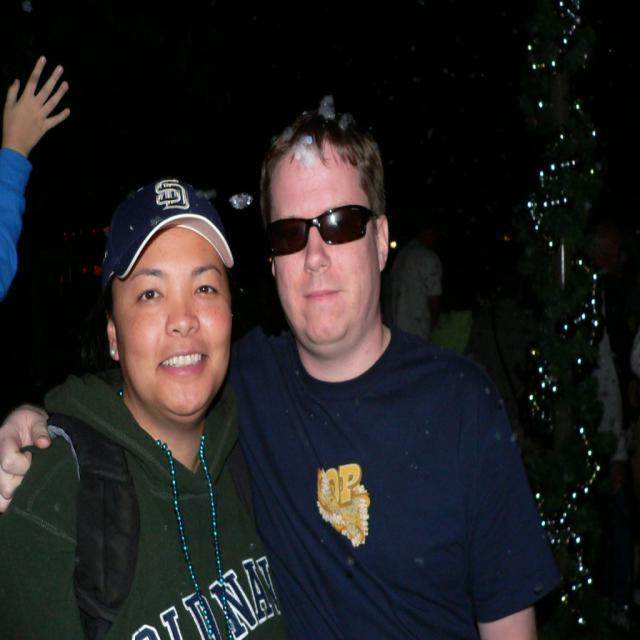closed-mouth: (300, 286, 345, 304)
